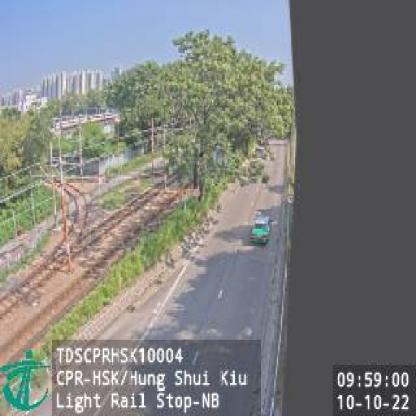Car: (252, 217, 272, 245)
